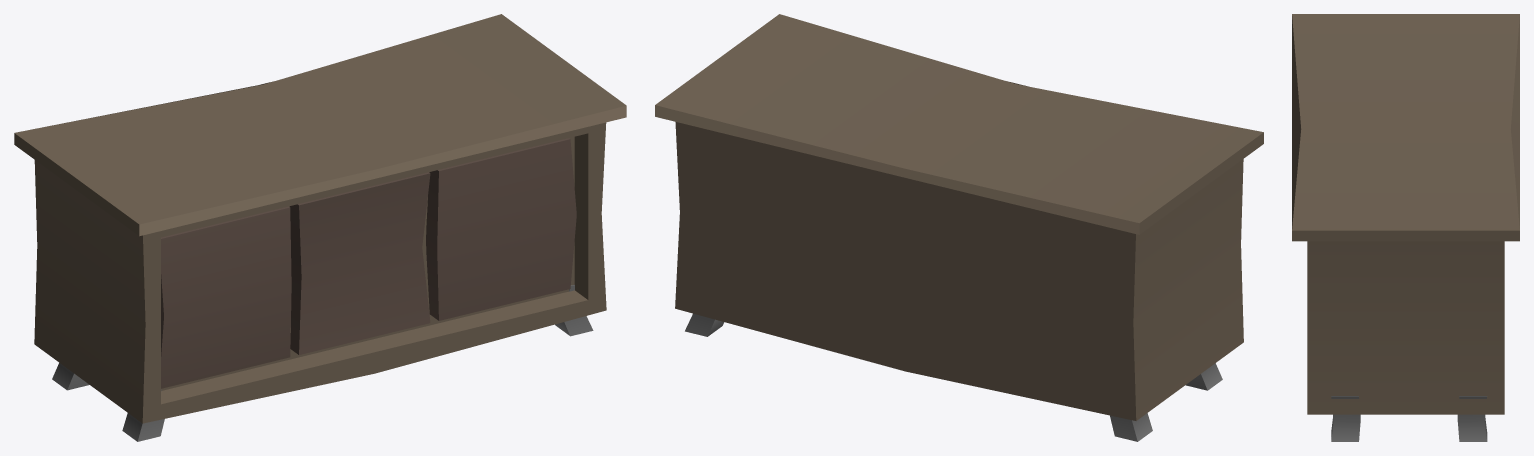
The model's file is dressior.fbx.
The picture shows the model from 3 angles, left to right: view 1: azimuth 30°, elevation 25°; view 2: azimuth 150°, elevation 25°; view 3: azimuth 270°, elevation 25°; orthographic projection. The views are drawn at different scales.
Visible parts, largest first — view 1: dressior; view 2: dressior; view 3: dressior.
Boxes of the visible parts, left/top/right/bottom form: dressior: left=14, top=14, right=626, bottom=441; dressior: left=655, top=14, right=1263, bottom=441; dressior: left=1292, top=14, right=1519, bottom=441.
Size of the model in its own units: 178 by 83.17 by 79.28.
